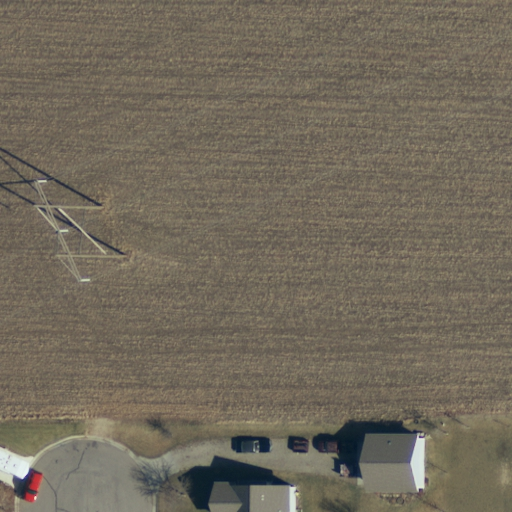TT: (28, 177, 127, 285)
